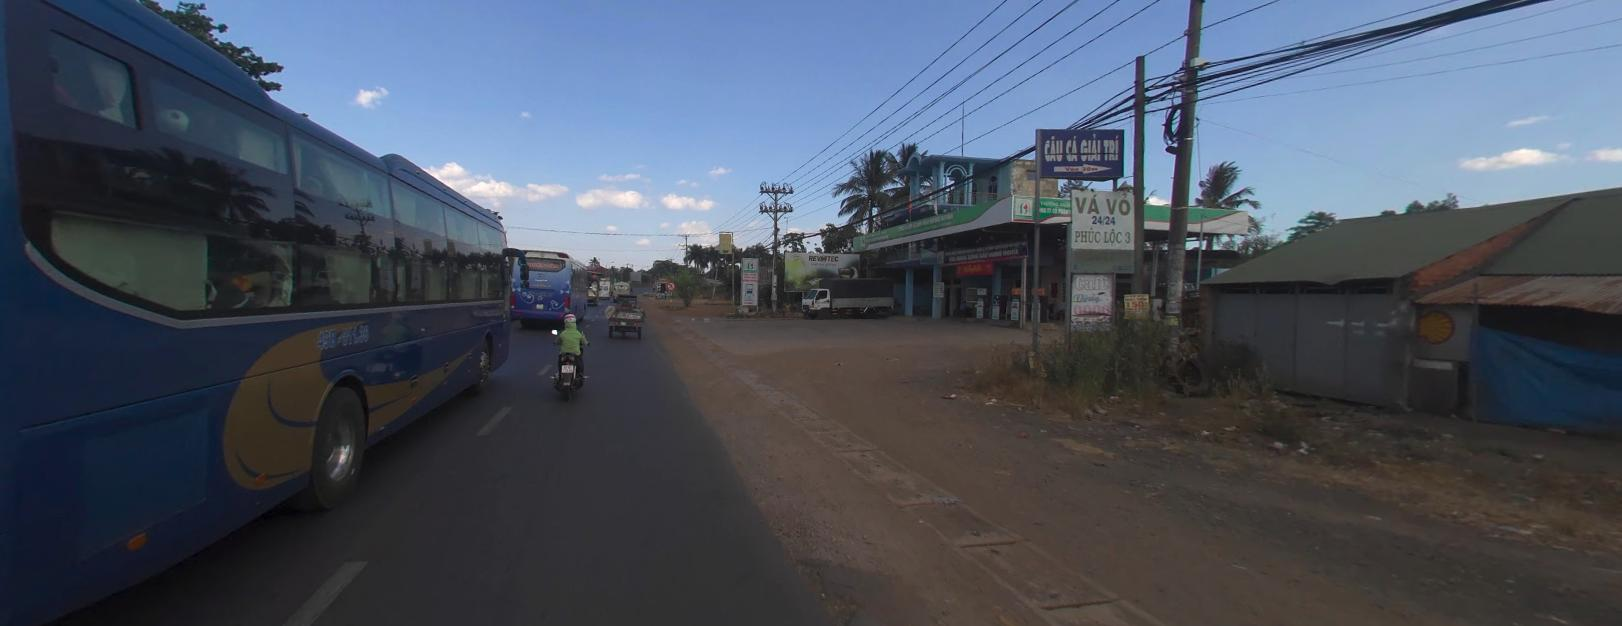Cam re: (666, 280, 675, 288)
